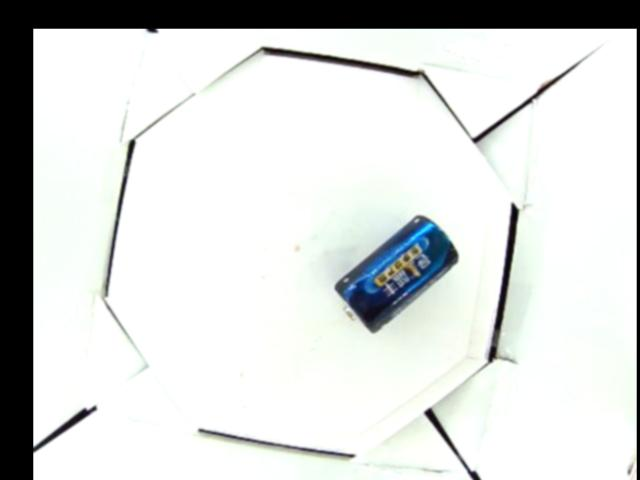Battery: (335, 212, 459, 334)
